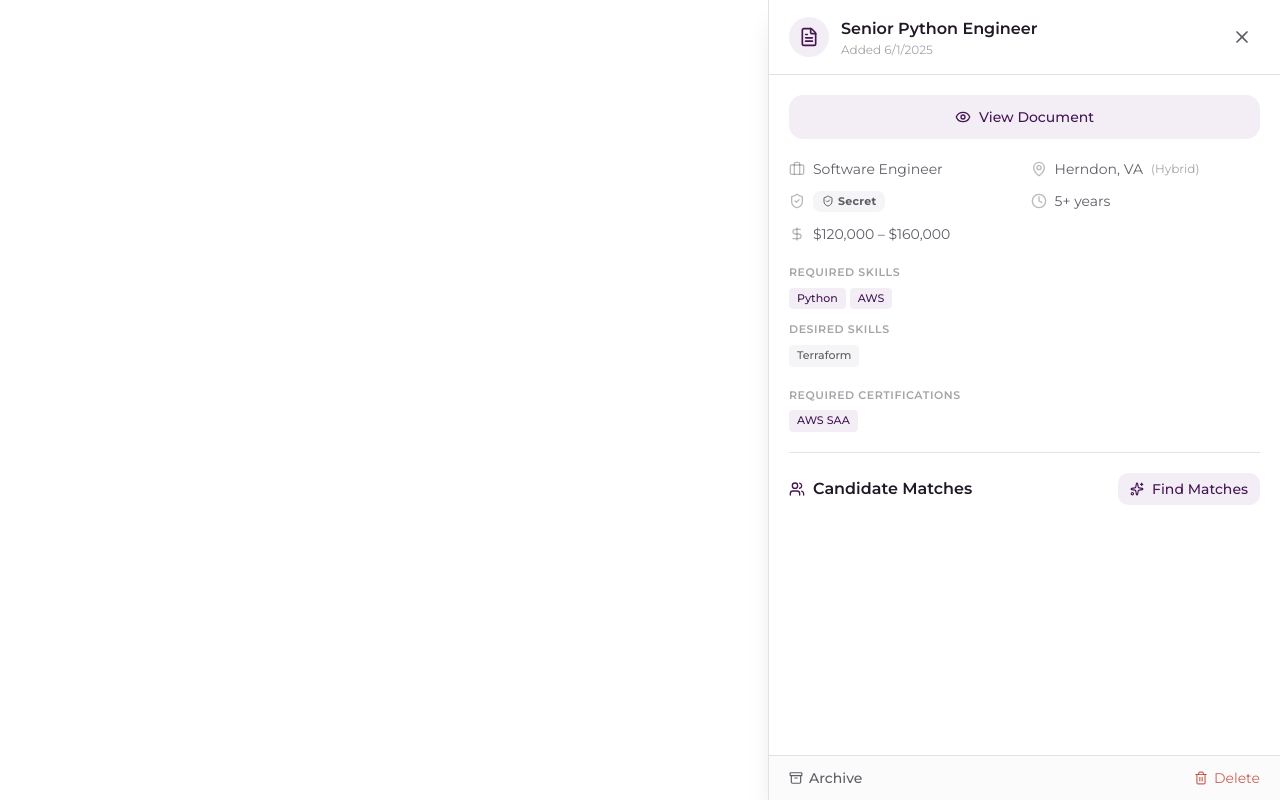
Scenario: JdDetailPanel › shows matched vs missing breakdown after opening a match
Click the button "Find Matches". click: click(1189, 489)
box: [1118,473,1260,505]
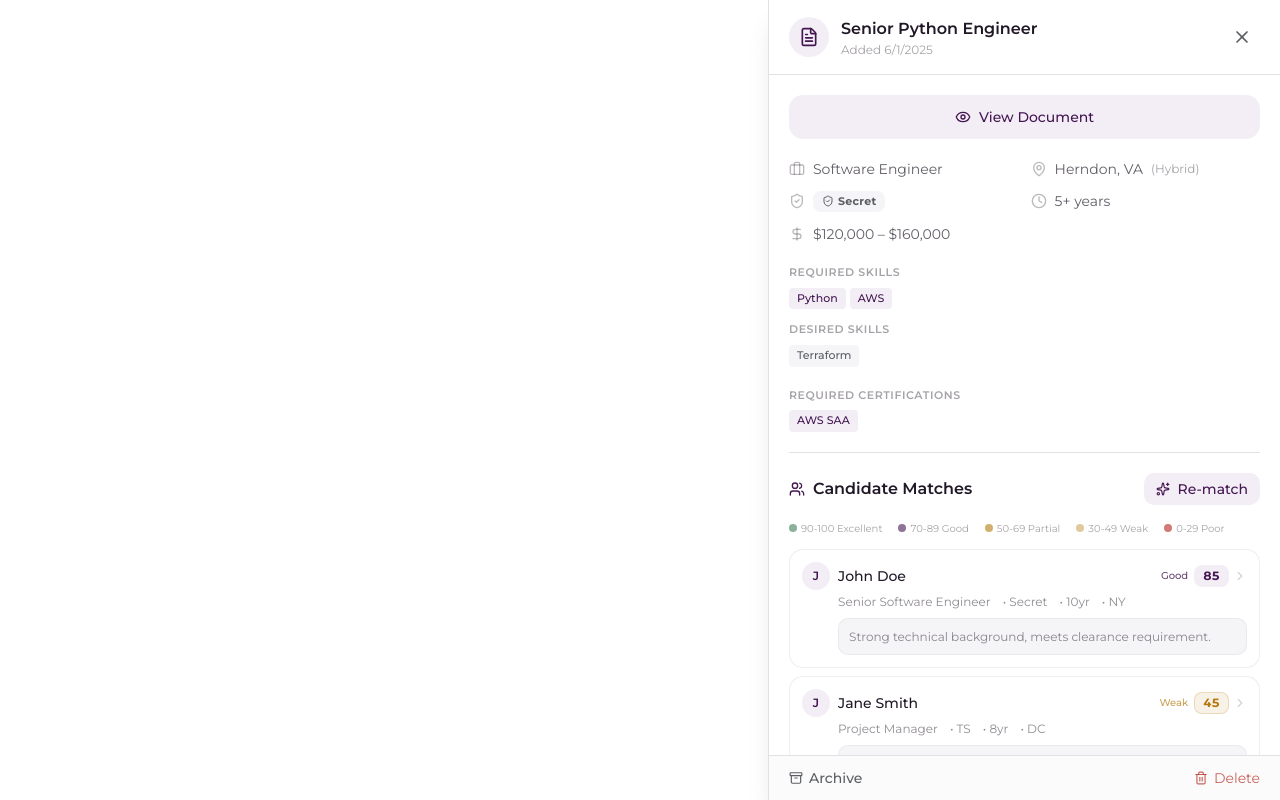
Result: the text "John Doe" is shown at [838,566,906,586]
Click the button "John Doe". click: click(1024, 609)
box: [789,549,1260,668]
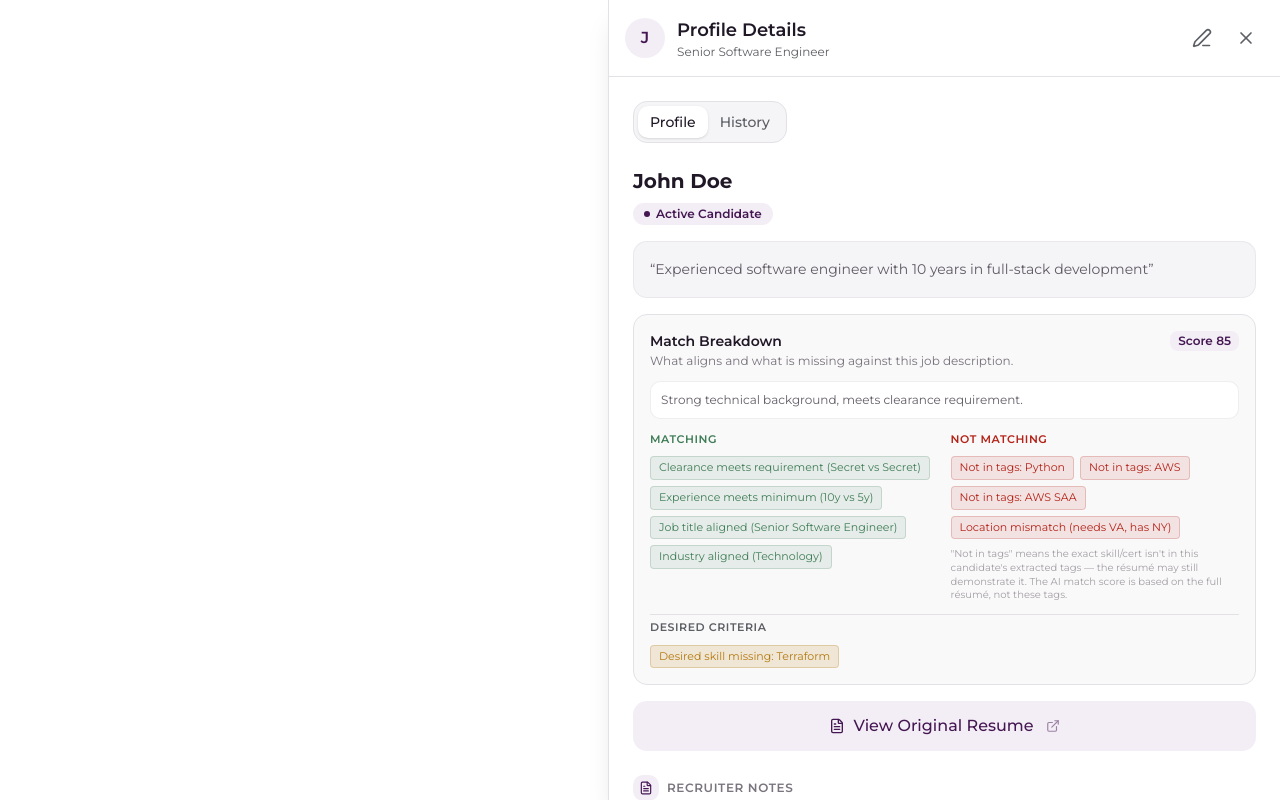
Result: the heading "Match Breakdown" is shown at [650,332,782,350]
Result: the text "Not in tags: Python" is shown at [950,456,1074,480]
Result: the text "Not Matching" is shown at [950,432,1047,446]
